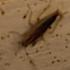cockroach: (19, 12, 58, 48)
